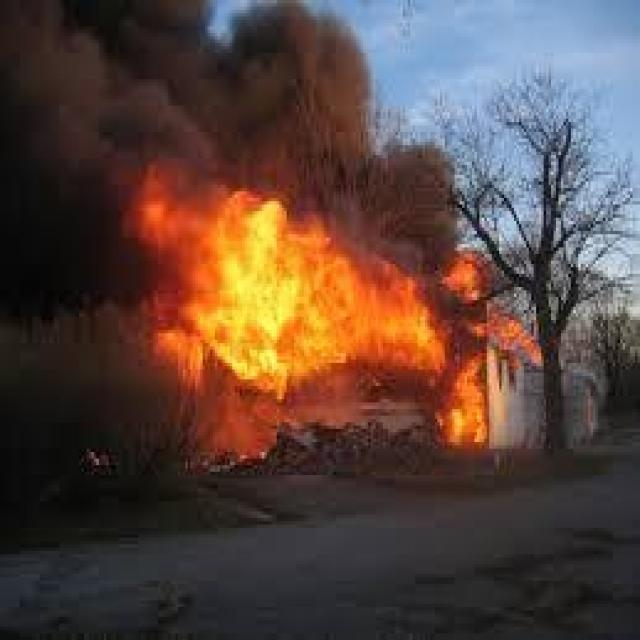Fire: (148, 197, 444, 396), (448, 264, 546, 342), (438, 356, 496, 444)
Smoke: (2, 3, 465, 197), (0, 200, 141, 467)
